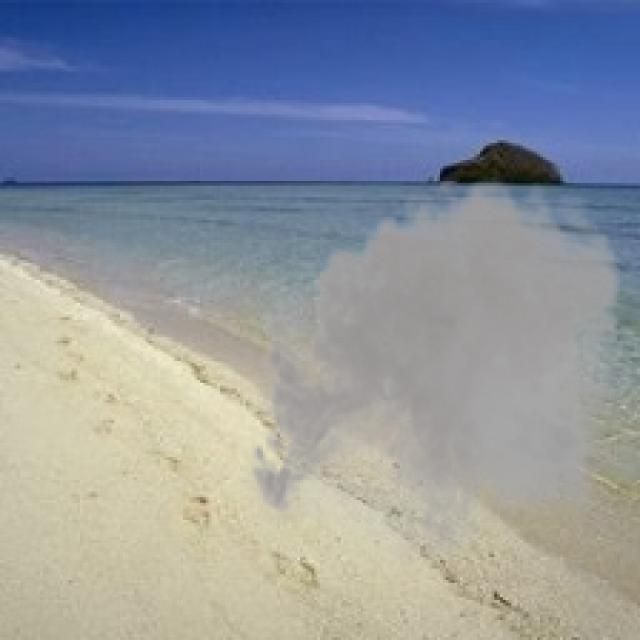smoke: (237, 163, 634, 580)
